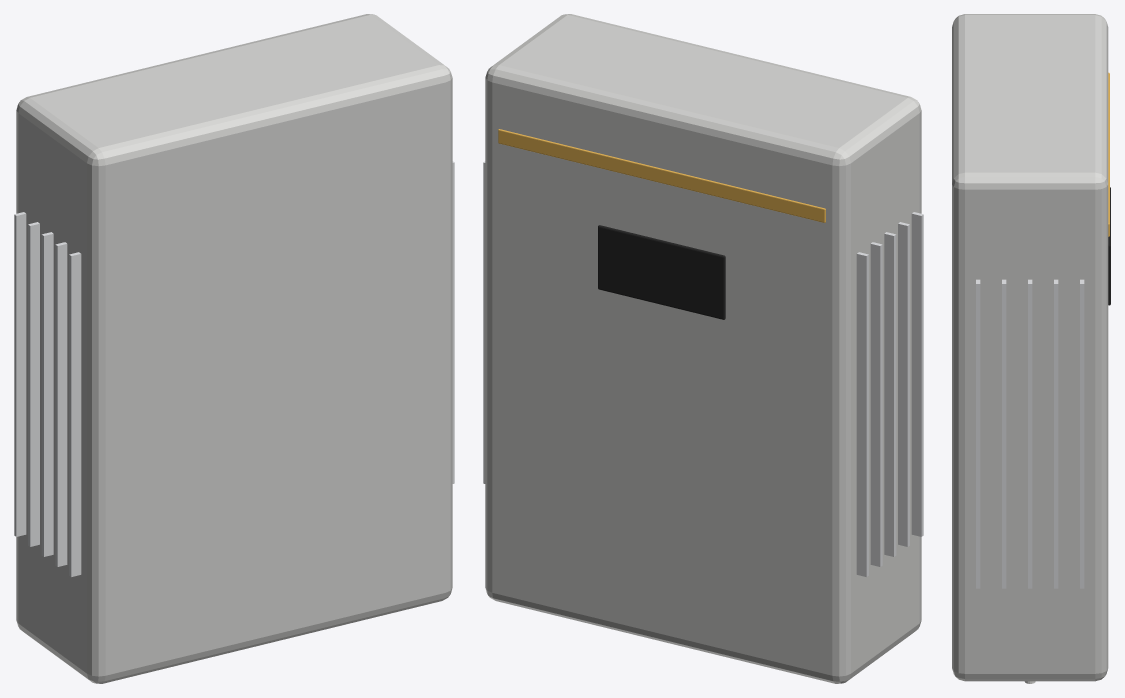
Rendered from growatt-spf-6000t-dvm-mpv.glb.
3 renders of one model, left to right at view 1: azimuth 30°, elevation 25°; view 2: azimuth 150°, elevation 25°; view 3: azimuth 270°, elevation 25°, orthographic. The views are drawn at different scales.
Parts seen in each view (by area): view 1: body, fin--1-2, fin--1-0, fin--1-1, fin--1-4, fin--1-3, fin-1-0; view 2: body, display, stripe, fin--1-2, fin--1-0, fin--1-3, fin--1-4, fin--1-1, fin-1-4; view 3: body, fin-1-0, fin-1-1, fin-1-2, fin-1-3, fin-1-4, stripe.
Part boxes in pixels (bbox=[...]): body: bbox=[16, 14, 452, 683]; fin--1-2: bbox=[41, 232, 53, 556]; fin--1-0: bbox=[69, 252, 81, 576]; fin--1-1: bbox=[55, 242, 67, 566]; fin--1-4: bbox=[14, 212, 26, 536]; fin--1-3: bbox=[28, 222, 39, 546]; fin-1-0: bbox=[452, 161, 454, 483]; body: bbox=[485, 14, 921, 683]; display: bbox=[598, 225, 725, 319]; stripe: bbox=[498, 129, 825, 222]; fin--1-2: bbox=[884, 232, 896, 556]; fin--1-0: bbox=[911, 212, 923, 536]; fin--1-3: bbox=[870, 242, 882, 566]; fin--1-4: bbox=[856, 252, 868, 576]; fin--1-1: bbox=[898, 222, 909, 546]; fin-1-4: bbox=[483, 161, 485, 483]; body: bbox=[952, 14, 1108, 681]; fin-1-0: bbox=[976, 279, 980, 588]; fin-1-1: bbox=[1002, 279, 1006, 588]; fin-1-2: bbox=[1028, 279, 1032, 588]; fin-1-3: bbox=[1054, 279, 1058, 588]; fin-1-4: bbox=[1080, 279, 1084, 588]; stripe: bbox=[1108, 72, 1109, 236].
Bounding box in the file's own units: 0.39 × 0.538 × 0.1475.
